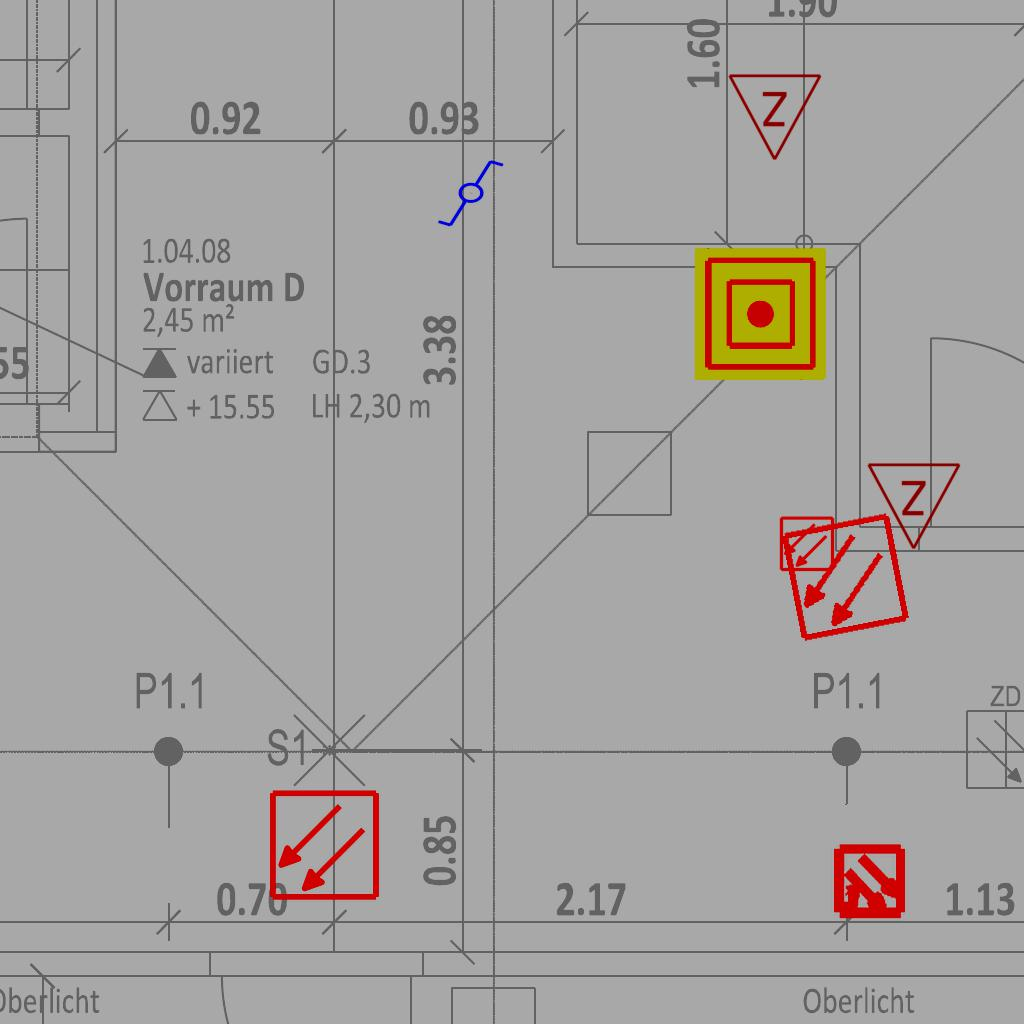NAM-Nichtautomatischer_Melder: (694, 248, 826, 380)
OT_Multisensormelder_(Kombination_RMO_WMD): (813, 827, 926, 940)
RMO_Rauchmelder_optischer: (779, 511, 912, 644), (268, 789, 381, 902), (779, 516, 835, 572)
Wechselschalter: (436, 158, 514, 230)
Zimmersignalleuchte: (866, 456, 964, 556), (727, 67, 825, 167)
